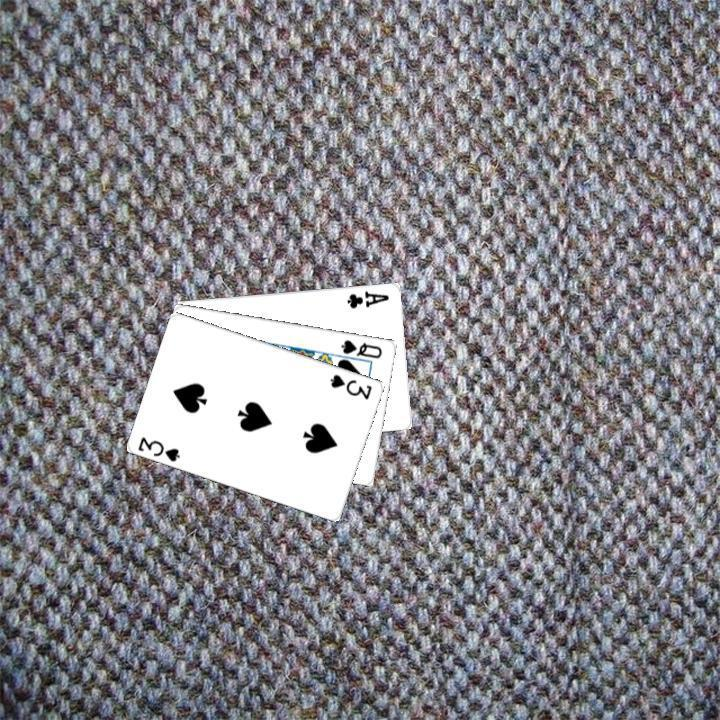3: (134, 432, 182, 464), (326, 370, 374, 401)
A: (343, 286, 391, 310)
Q: (337, 335, 384, 360)
